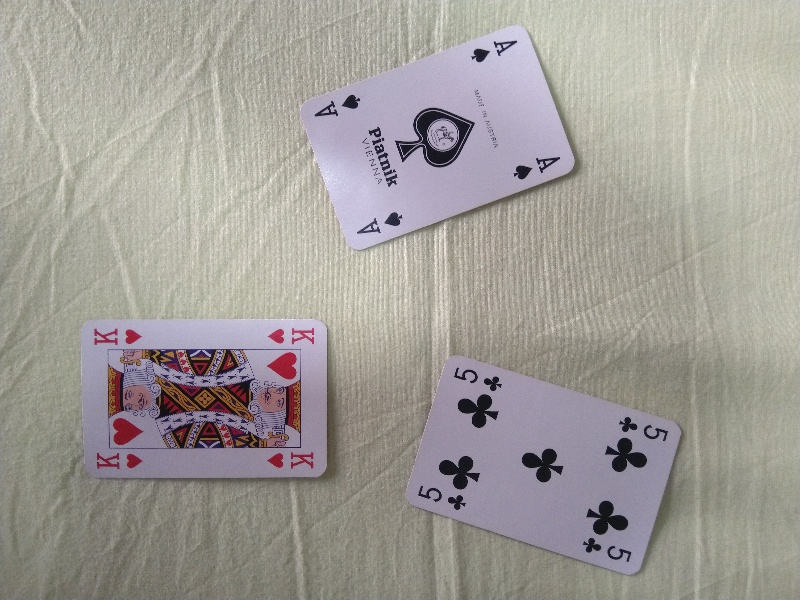5c: (616, 411, 672, 445), (414, 482, 473, 514), (449, 361, 507, 393), (578, 533, 636, 565)
As: (350, 205, 406, 237), (310, 89, 364, 121), (507, 154, 567, 182), (467, 35, 519, 65)
Kh: (85, 447, 147, 471), (266, 448, 317, 472), (264, 326, 318, 348), (87, 326, 146, 346)
